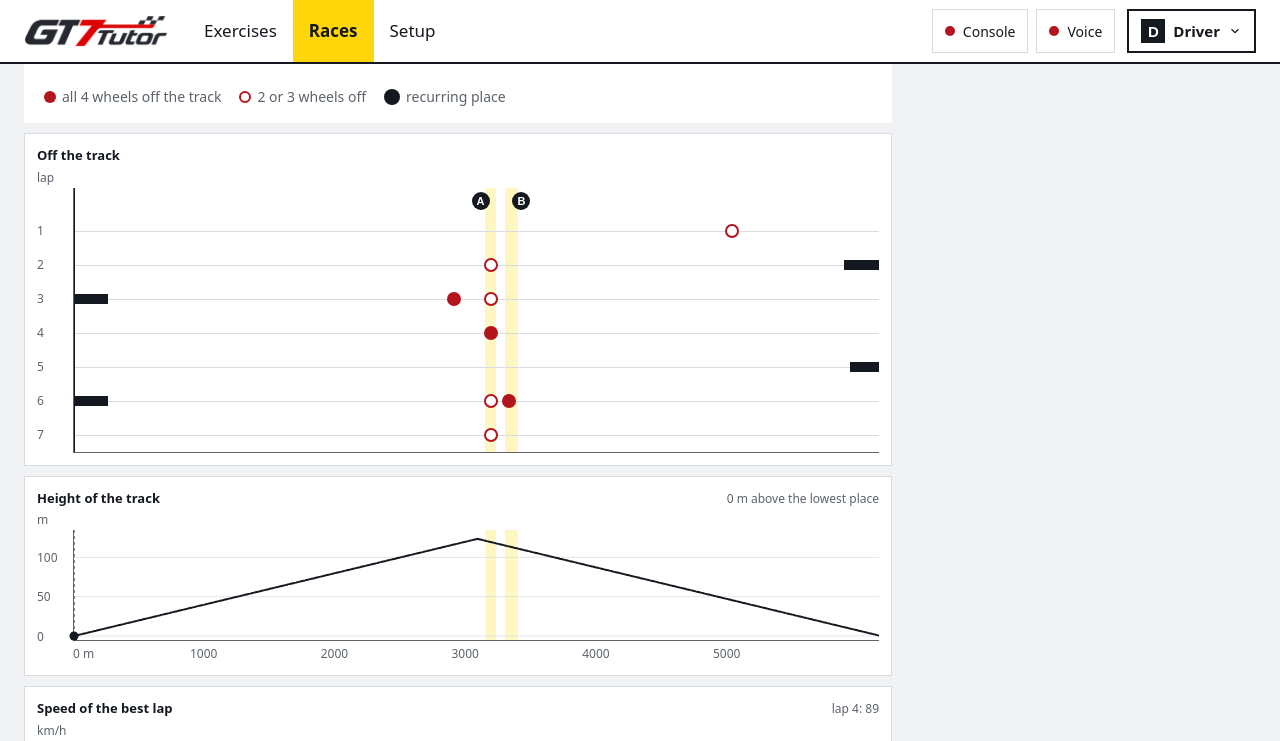
race page, off the track tab › orders_the_moments_by_lap_then_distance
(page scrolled)
Click the button named "Lap 6, 3,190 m" at [490, 400], box [476, 386, 504, 414]
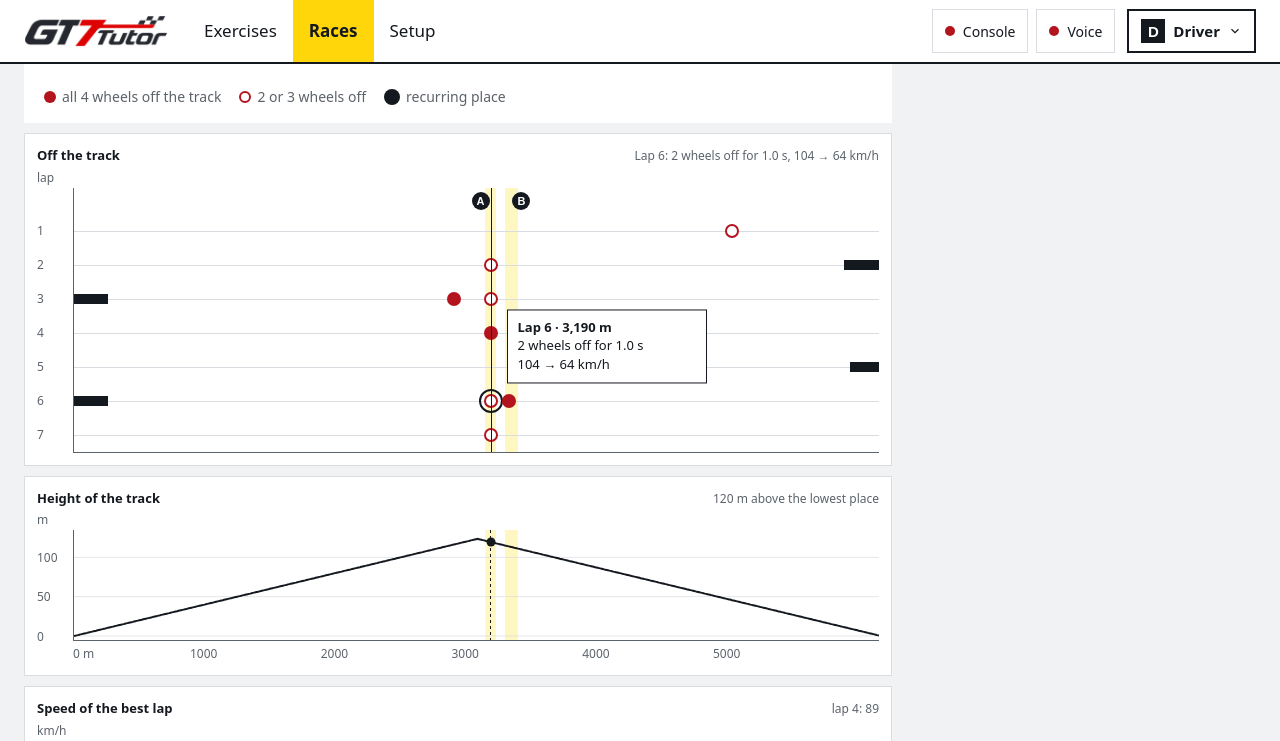
Press ArrowRight in the button named "Lap 6, 3,190 m", box [476, 386, 504, 414]
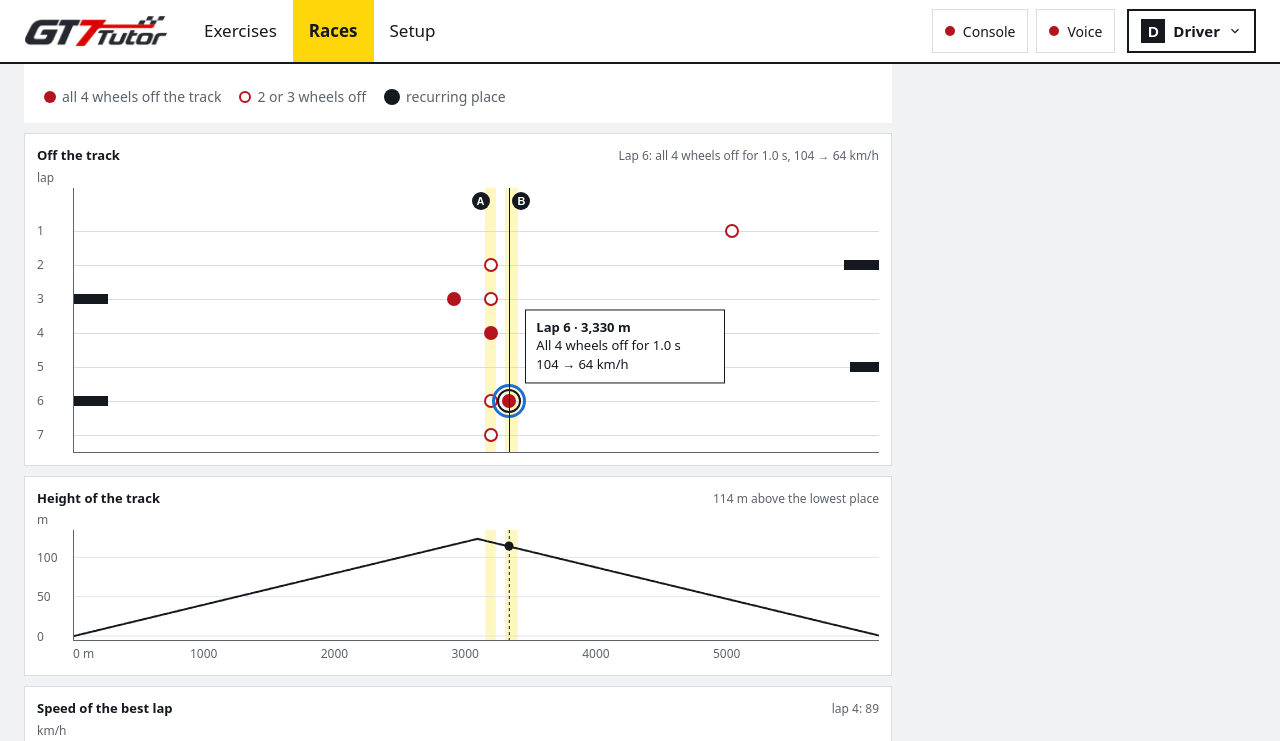
Check: the button named "Lap 6, 3,330 m" is pressed, box [495, 386, 523, 414]
